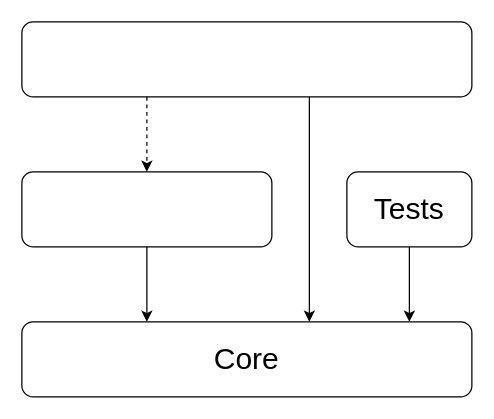
Some shapes in this 494 by 419 pixel diagram are drawn without their labels. Each missing label, with the box of its shape:
API: (21, 21, 472, 97)
Infrastructure: (21, 171, 272, 247)
